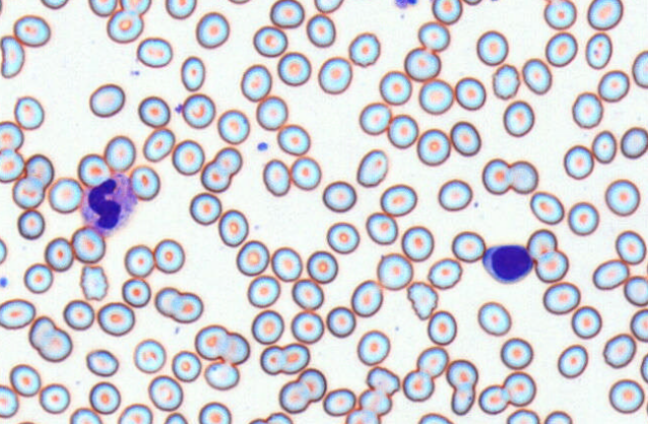GRAN: (82, 172, 135, 235)
LYM: (482, 243, 537, 285)
PLT: (257, 140, 269, 152), (0, 275, 9, 289), (408, 0, 417, 10)
RBC: (376, 252, 412, 290), (604, 178, 640, 216), (317, 56, 352, 94), (147, 375, 183, 411), (97, 301, 134, 336), (71, 225, 105, 263), (416, 128, 450, 166), (418, 78, 453, 114), (608, 378, 644, 413), (404, 46, 440, 81), (88, 83, 125, 117), (106, 9, 143, 43), (235, 239, 269, 276), (195, 11, 229, 48), (542, 281, 580, 314), (350, 279, 383, 317), (12, 14, 50, 47), (356, 148, 388, 187), (37, 327, 72, 362), (194, 324, 228, 360), (48, 177, 82, 213), (356, 329, 390, 365), (477, 300, 511, 336), (502, 371, 536, 406), (181, 93, 215, 128), (277, 51, 311, 86), (602, 333, 636, 368), (171, 139, 204, 175), (401, 225, 434, 261), (380, 183, 416, 216), (592, 258, 629, 290), (103, 134, 135, 171), (502, 100, 534, 137), (571, 91, 603, 128), (240, 63, 271, 101), (77, 153, 111, 187), (290, 310, 324, 344), (133, 338, 166, 373), (251, 309, 284, 344), (379, 70, 412, 105), (437, 178, 472, 211), (529, 191, 564, 224), (217, 108, 249, 144), (545, 31, 577, 67), (476, 29, 508, 65), (521, 57, 552, 94), (218, 208, 248, 246), (534, 249, 568, 282), (358, 101, 391, 135), (348, 31, 380, 66), (142, 127, 174, 162), (427, 257, 462, 289), (255, 95, 287, 130), (252, 25, 287, 57), (270, 246, 302, 281), (136, 36, 172, 67), (449, 120, 480, 156), (586, 0, 623, 30), (247, 274, 280, 307), (326, 221, 359, 254), (169, 291, 203, 323), (499, 337, 533, 369), (570, 305, 602, 339), (322, 180, 356, 212), (567, 201, 599, 235), (451, 230, 485, 262), (276, 123, 310, 155), (204, 359, 239, 390), (0, 298, 35, 329), (153, 238, 184, 273), (129, 165, 160, 200), (387, 113, 418, 148), (557, 343, 588, 378), (563, 144, 594, 179), (615, 229, 646, 264), (481, 158, 511, 194), (262, 158, 290, 196), (278, 380, 310, 413), (12, 176, 44, 209), (402, 369, 434, 402), (189, 192, 221, 225), (365, 211, 397, 244), (306, 250, 338, 283), (137, 95, 170, 127), (597, 69, 629, 102), (13, 95, 44, 129), (290, 156, 321, 190), (454, 76, 485, 110), (426, 310, 456, 345), (79, 264, 108, 300), (491, 63, 520, 99), (291, 278, 323, 310), (123, 244, 154, 277), (9, 363, 40, 396), (89, 381, 120, 414), (417, 20, 450, 51), (44, 236, 73, 271), (585, 32, 612, 69), (526, 228, 557, 260), (416, 346, 448, 377), (62, 299, 94, 330), (508, 160, 538, 193), (326, 305, 356, 338), (297, 367, 326, 401), (24, 153, 53, 187), (322, 387, 356, 416), (306, 13, 335, 47), (269, 0, 304, 28), (39, 383, 70, 414), (171, 350, 201, 382), (221, 331, 250, 364), (543, 0, 576, 29), (28, 315, 56, 349), (446, 358, 477, 388), (200, 161, 230, 192), (478, 384, 509, 414), (23, 262, 53, 293), (358, 387, 391, 415), (85, 348, 118, 376), (620, 126, 648, 159), (121, 277, 151, 307), (180, 55, 205, 91), (591, 129, 616, 163), (281, 343, 309, 373), (17, 208, 44, 239), (0, 148, 24, 182), (214, 146, 242, 175), (154, 286, 180, 317), (259, 345, 285, 375), (431, 0, 462, 24), (623, 275, 647, 306), (198, 401, 231, 423), (0, 120, 23, 151), (117, 403, 152, 423), (0, 384, 18, 418), (164, 0, 196, 19), (632, 49, 647, 88), (630, 308, 647, 342), (69, 407, 102, 423), (345, 408, 380, 423), (506, 408, 539, 423), (87, 0, 117, 16), (120, 0, 151, 15), (417, 412, 453, 423), (313, 0, 343, 13), (543, 410, 572, 423), (265, 411, 293, 423), (163, 412, 187, 423), (40, 0, 69, 9), (640, 352, 648, 383), (0, 236, 7, 264), (247, 417, 266, 423), (462, 0, 482, 5), (226, 0, 251, 4), (15, 420, 39, 424), (645, 258, 648, 280)
Schistocyte: (407, 279, 438, 319), (1, 33, 24, 79), (365, 367, 400, 396), (451, 384, 476, 417)
